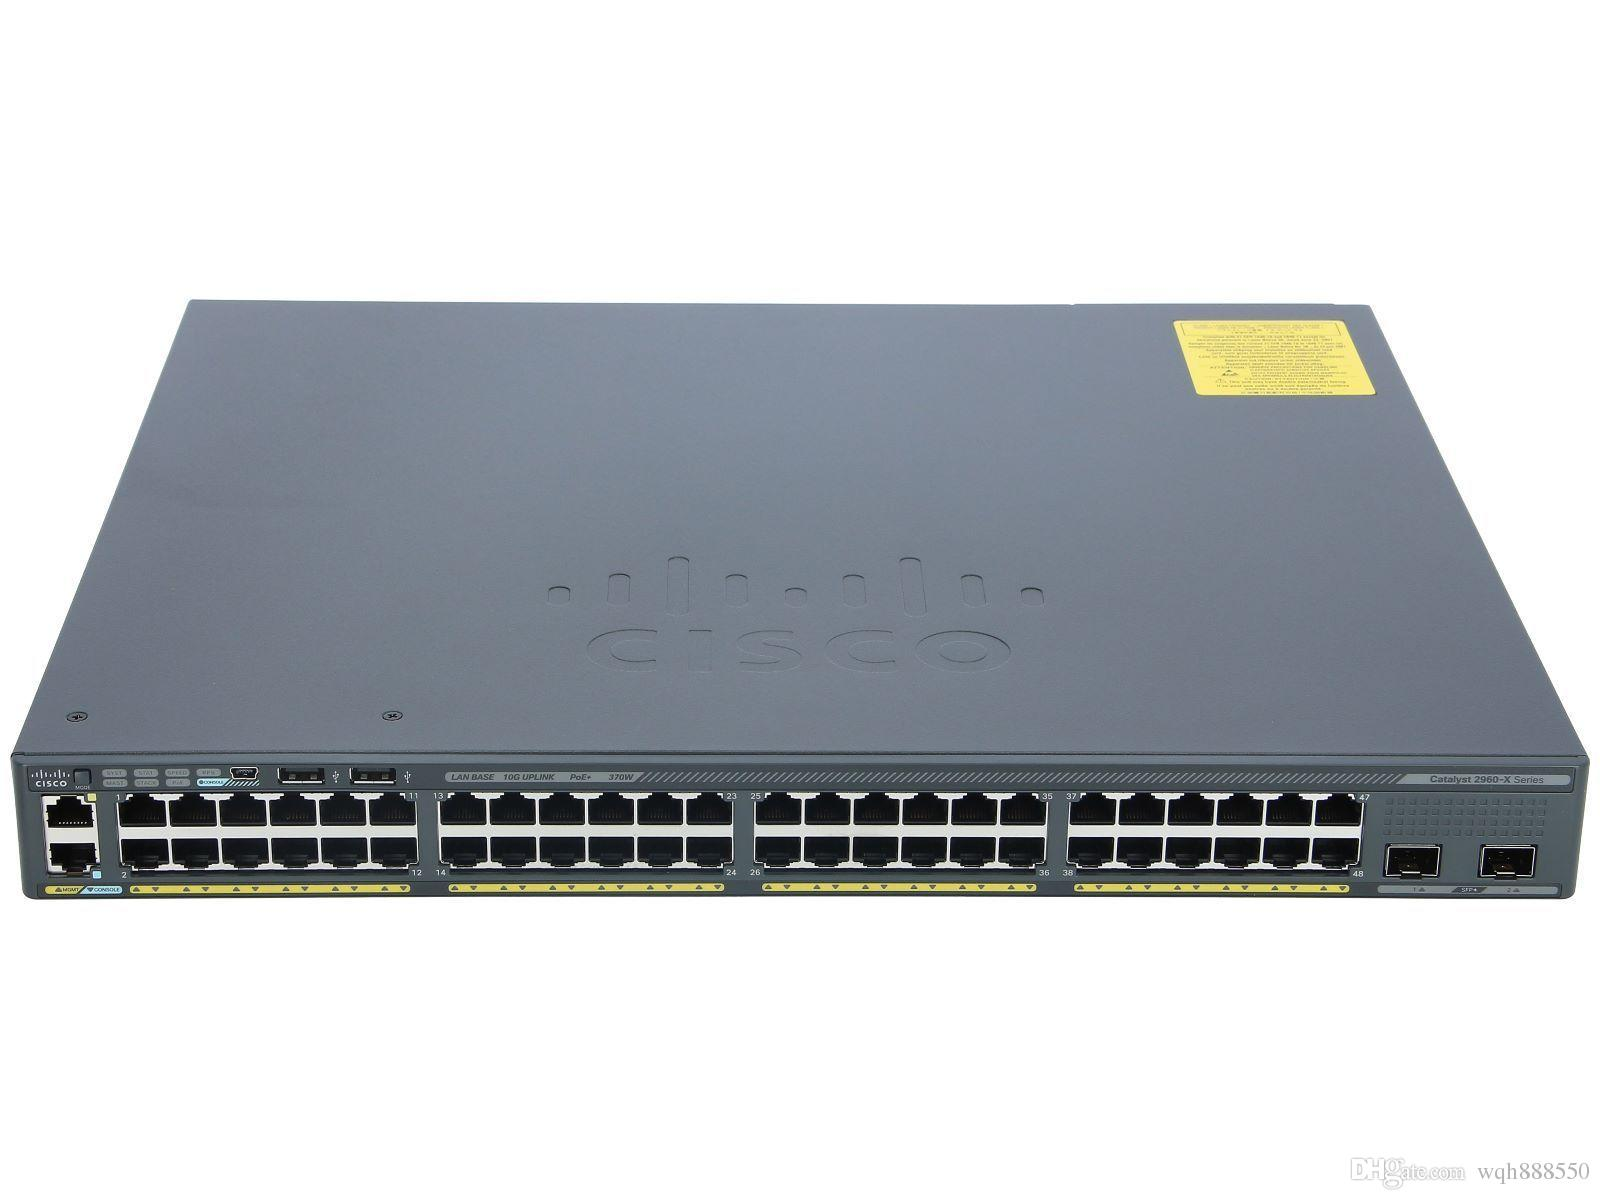Switch: (4, 609, 1592, 992)
